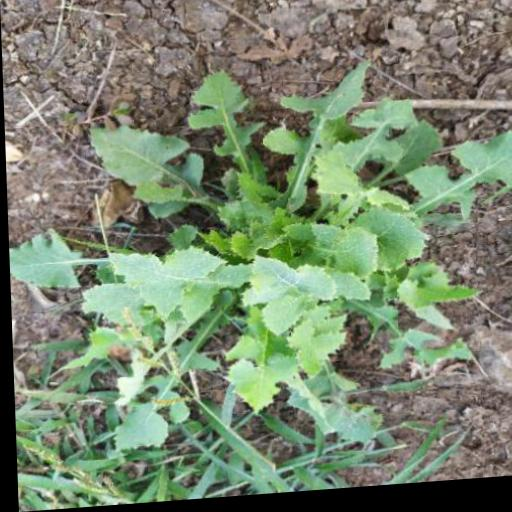weed: (2, 48, 512, 462)
